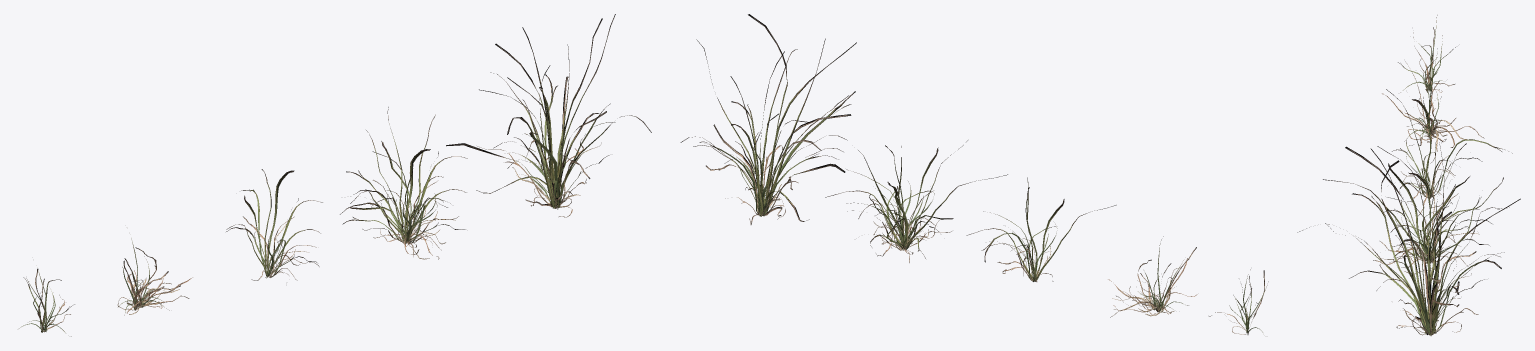
The model's file is fountain-grass-source.glb.
The picture shows the model from 3 angles, left to right: view 1: azimuth 30°, elevation 25°; view 2: azimuth 150°, elevation 25°; view 3: azimuth 270°, elevation 25°; orthographic projection. The views are drawn at different scales.
Visible parts, largest first — view 1: grass_medium_02_e, grass_medium_02_d, grass_medium_02_c, grass_medium_02_b, grass_medium_02_a; view 2: grass_medium_02_e, grass_medium_02_d, grass_medium_02_c, grass_medium_02_b, grass_medium_02_a; view 3: grass_medium_02_e, grass_medium_02_d, grass_medium_02_c, grass_medium_02_b, grass_medium_02_a.
Boxes of the visible parts, left/top/right/bottom form: grass_medium_02_e: left=446, top=14, right=651, bottom=217; grass_medium_02_d: left=340, top=107, right=467, bottom=259; grass_medium_02_c: left=226, top=169, right=322, bottom=280; grass_medium_02_b: left=117, top=238, right=192, bottom=315; grass_medium_02_a: left=19, top=268, right=74, bottom=336; grass_medium_02_e: left=680, top=14, right=856, bottom=224; grass_medium_02_d: left=825, top=140, right=1007, bottom=262; grass_medium_02_c: left=966, top=177, right=1116, bottom=281; grass_medium_02_b: left=1108, top=236, right=1197, bottom=317; grass_medium_02_a: left=1209, top=269, right=1268, bottom=334; grass_medium_02_e: left=1297, top=142, right=1520, bottom=335; grass_medium_02_d: left=1323, top=143, right=1509, bottom=274; grass_medium_02_c: left=1386, top=89, right=1512, bottom=215; grass_medium_02_b: left=1382, top=48, right=1484, bottom=151; grass_medium_02_a: left=1398, top=15, right=1455, bottom=92.
Size of the model in its own units: 1.31 by 0.4053 by 0.4332.
Materials: 1 (1 with a texture image).
